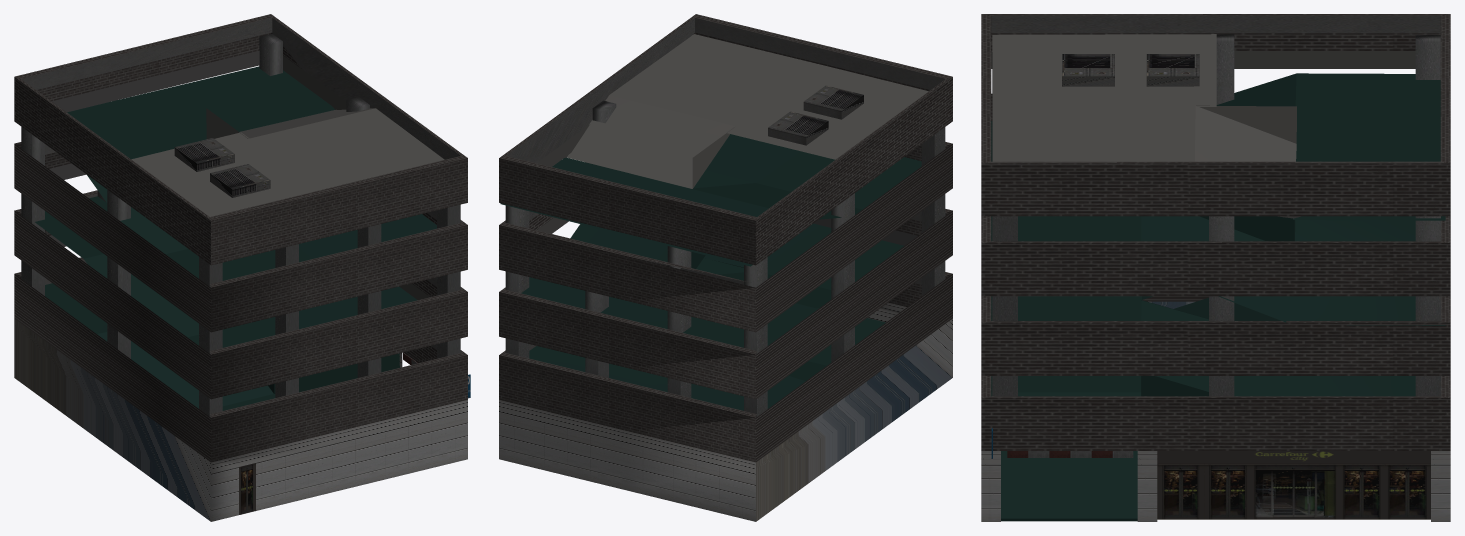
Rendered from edificio.5.fbx.
The picture shows the model from 3 angles, left to right: view 1: azimuth 30°, elevation 25°; view 2: azimuth 150°, elevation 25°; view 3: azimuth 270°, elevation 25°; orthographic projection. The views are drawn at different scales.
Parts seen in each view (by area): view 1: Edificio_6.001, Cube; view 2: Edificio_6.001, Cube; view 3: Edificio_6.001, Cube.
Boxes of the visible parts, x1,y1,x2,y2 form: Edificio_6.001: (14, 14, 470, 521); Cube: (35, 66, 436, 410); Edificio_6.001: (499, 14, 952, 521); Cube: (500, 134, 921, 410); Edificio_6.001: (981, 14, 1450, 521); Cube: (991, 73, 1445, 521).
Bounding box in the file's own units: 1380 × 1504 × 1783.
